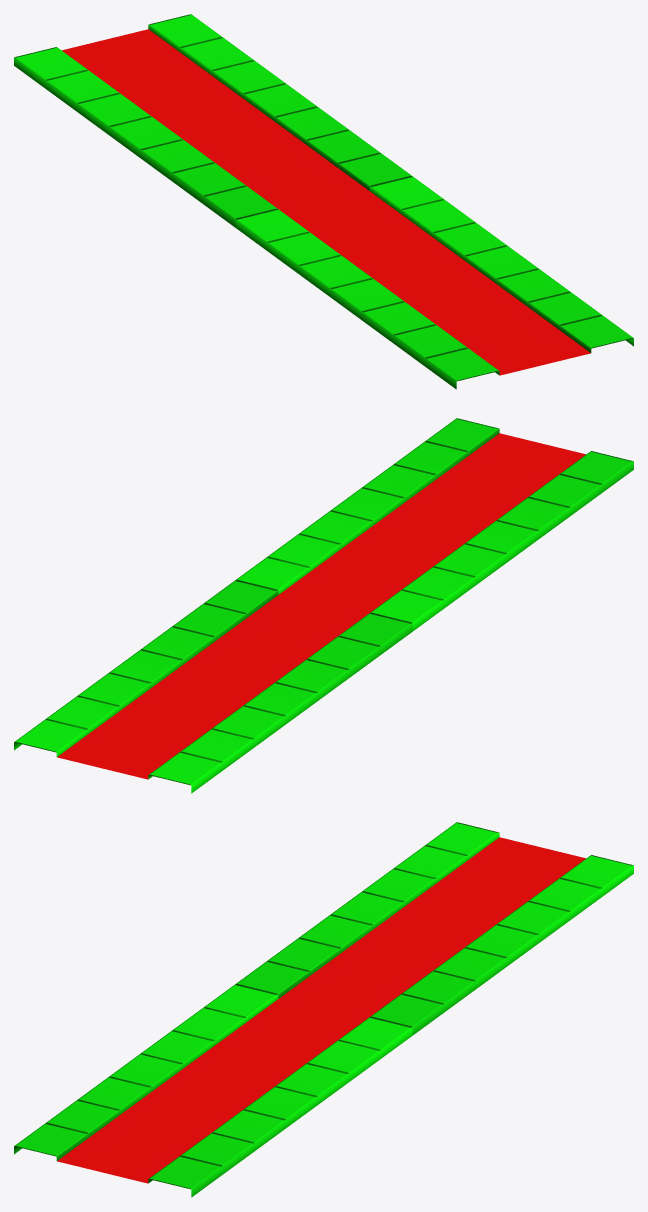
The model's file is Road.fbx.
The picture shows the model from 3 angles, top to bottom: view 1: azimuth 30°, elevation 25°; view 2: azimuth 150°, elevation 25°; view 3: azimuth 330°, elevation 25°; orthographic projection.
Parts seen in each view (by area): view 1: Plane; view 2: Plane; view 3: Plane.
Part boxes in pixels (left/top/right/bottom): Plane: left=14, top=14, right=633, bottom=389; Plane: left=14, top=418, right=633, bottom=793; Plane: left=14, top=822, right=633, bottom=1197.
Size of the model in its own units: 973 by 44.04 by 4210.
